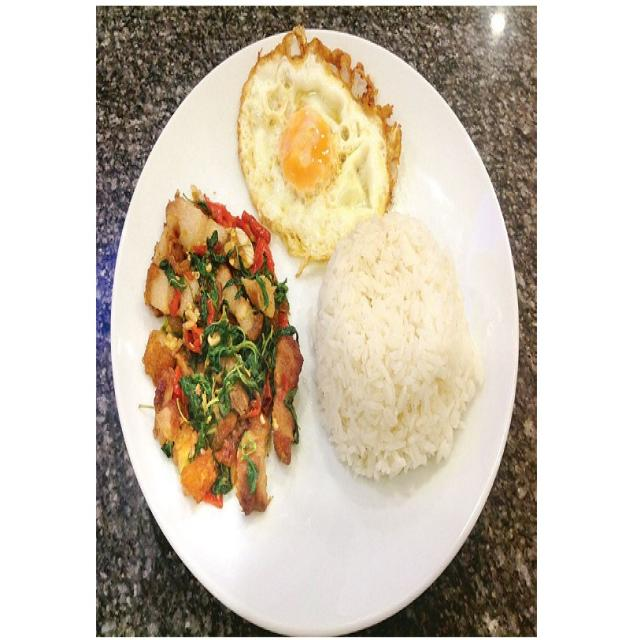Carbohydrate: (314, 212, 482, 480)
Kaow-Padkrapao: (130, 30, 496, 554)
Protein: (145, 186, 296, 514), (240, 27, 396, 253)
Vegetable: (168, 250, 278, 443)
